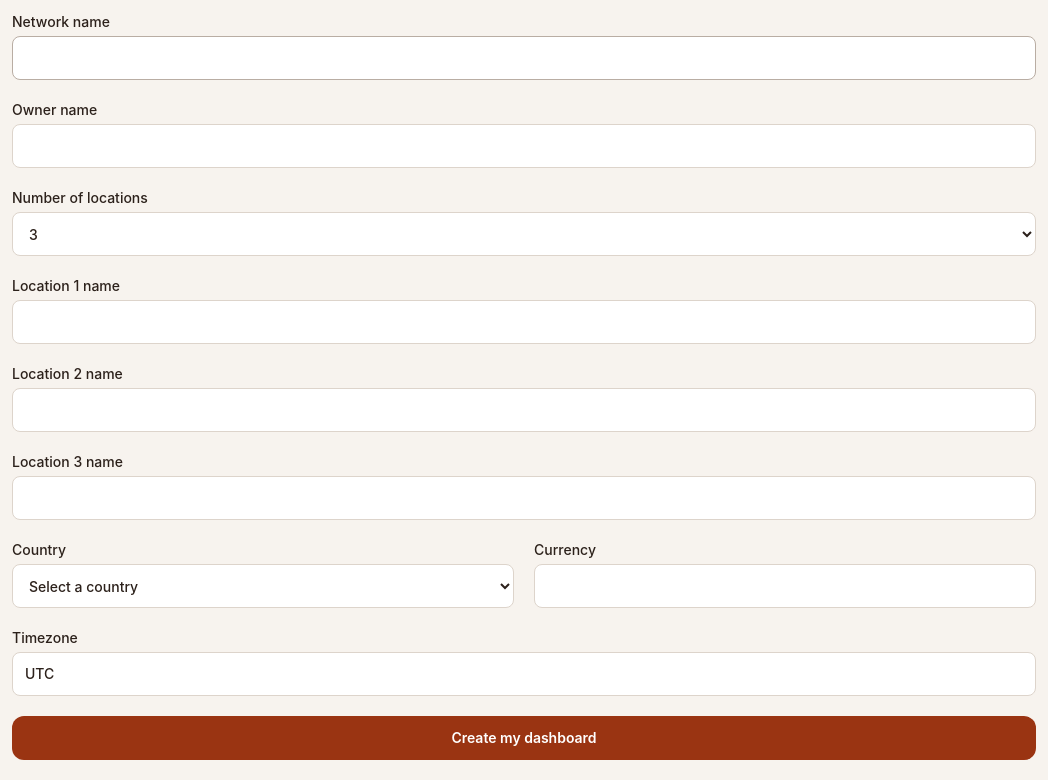
Test: Stage 7 first-run forms › suggests defaults for the expanded registration regions
Select "Belgium" in the dropdown labelled "Country" at (263, 586), box [12,564,514,608]
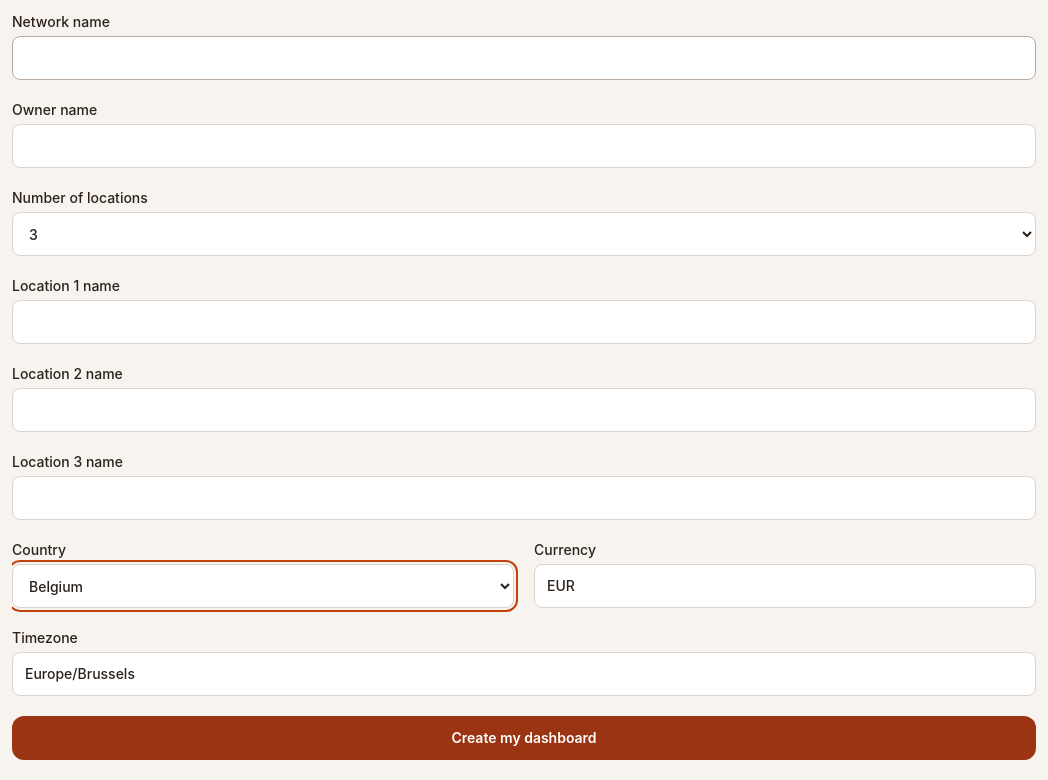
expect the field labelled "Currency" holds "EUR": met, box [534,564,1036,608]
expect the field labelled "Timezone" holds "Europe/Brussels": met, box [12,652,1036,696]
Select "Germany" in the dropdown labelled "Country" at (263, 586), box [12,564,514,608]
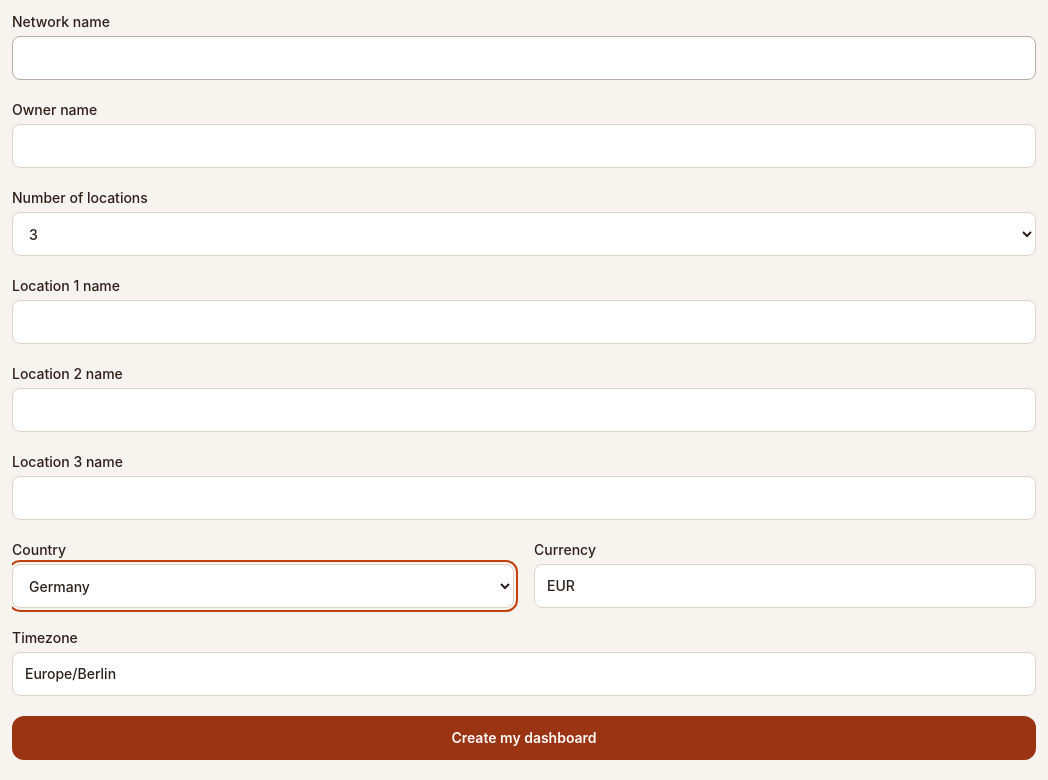
expect the field labelled "Currency" holds "EUR": met, box [534,564,1036,608]
expect the field labelled "Timezone" holds "Europe/Berlin": met, box [12,652,1036,696]
Select "Netherlands" in the dropdown labelled "Country" at (263, 586), box [12,564,514,608]
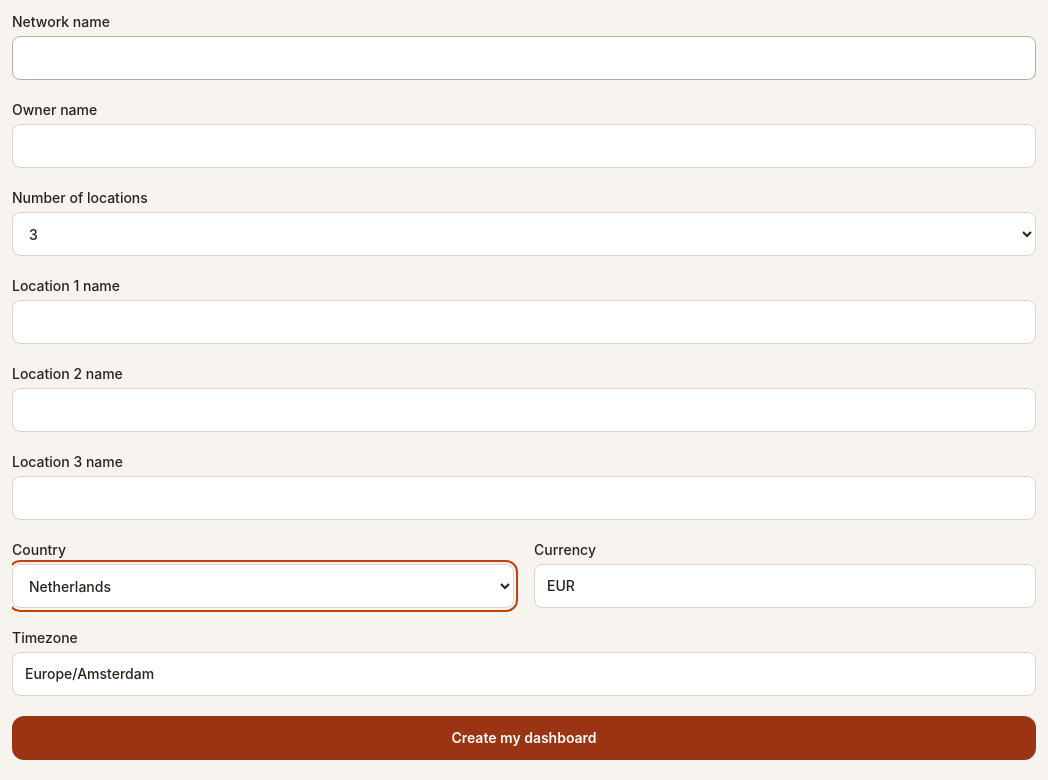
expect the field labelled "Currency" holds "EUR": met, box [534,564,1036,608]
expect the field labelled "Timezone" holds "Europe/Amsterdam": met, box [12,652,1036,696]
Select "Denmark" in the dropdown labelled "Country" at (263, 586), box [12,564,514,608]
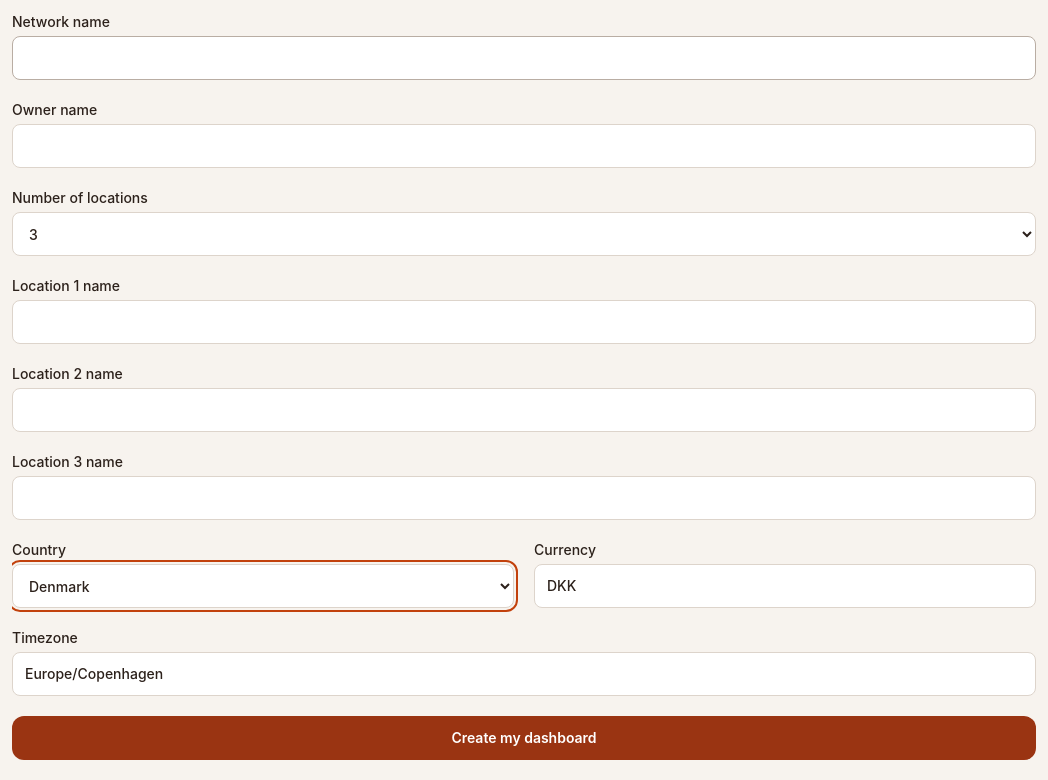
expect the field labelled "Currency" holds "DKK": met, box [534,564,1036,608]
expect the field labelled "Timezone" holds "Europe/Copenhagen": met, box [12,652,1036,696]
Select "Spain" in the dropdown labelled "Country" at (263, 586), box [12,564,514,608]
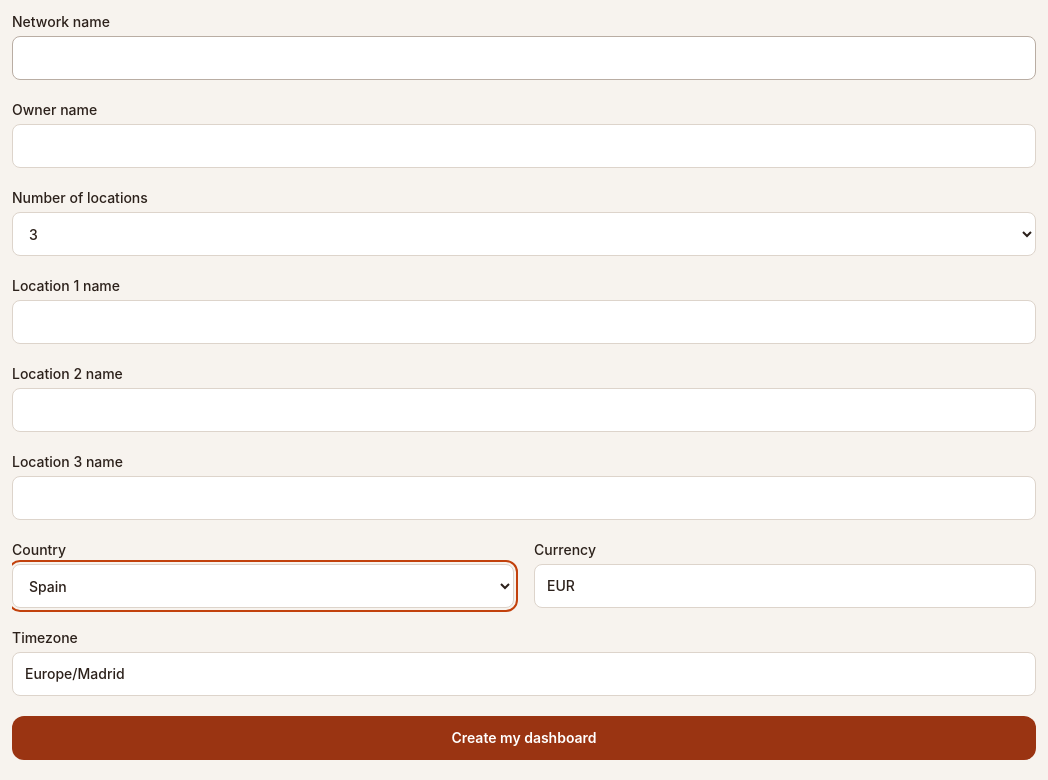
expect the field labelled "Currency" holds "EUR": met, box [534,564,1036,608]
expect the field labelled "Timezone" holds "Europe/Madrid": met, box [12,652,1036,696]
